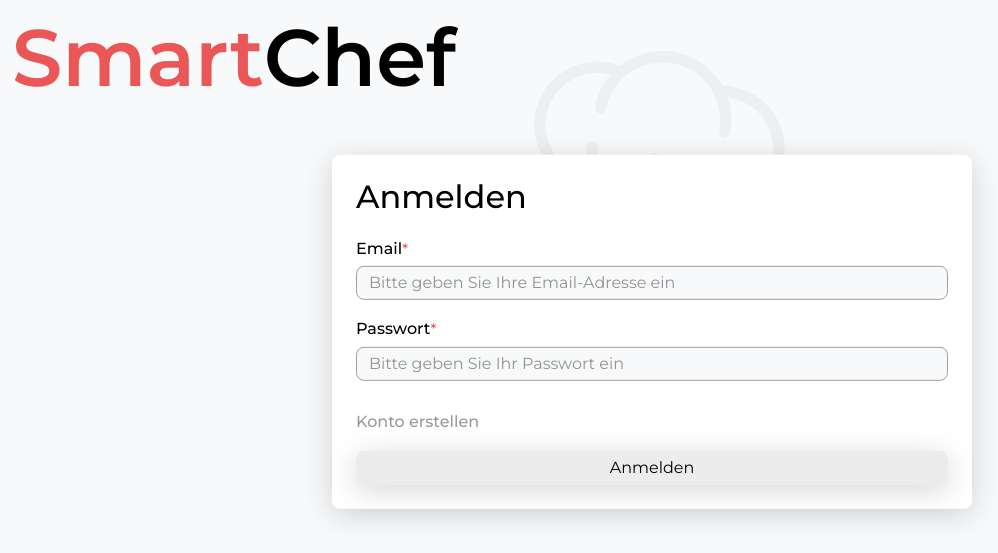
Test: Login page › Should validate the email input against pattern
This screenshot has width=998, height=553.
Type "invalid email" into the field named "email". click: (652, 283)
box: [356,266,948,300]
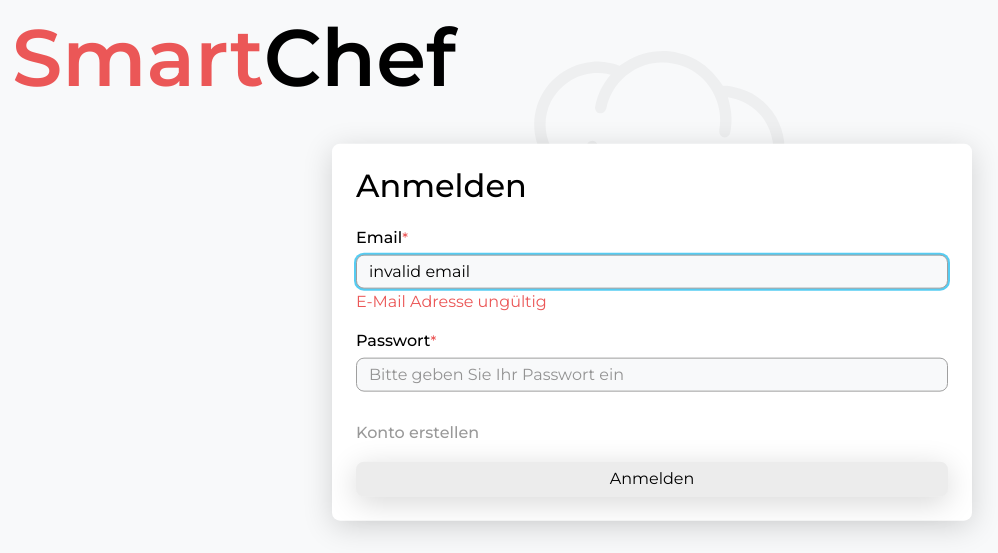
Expected: the submit button is disabled, [356,462,948,496]
Now the text "E-Mail Adresse ungültig" is shown, box [356,292,547,311]
